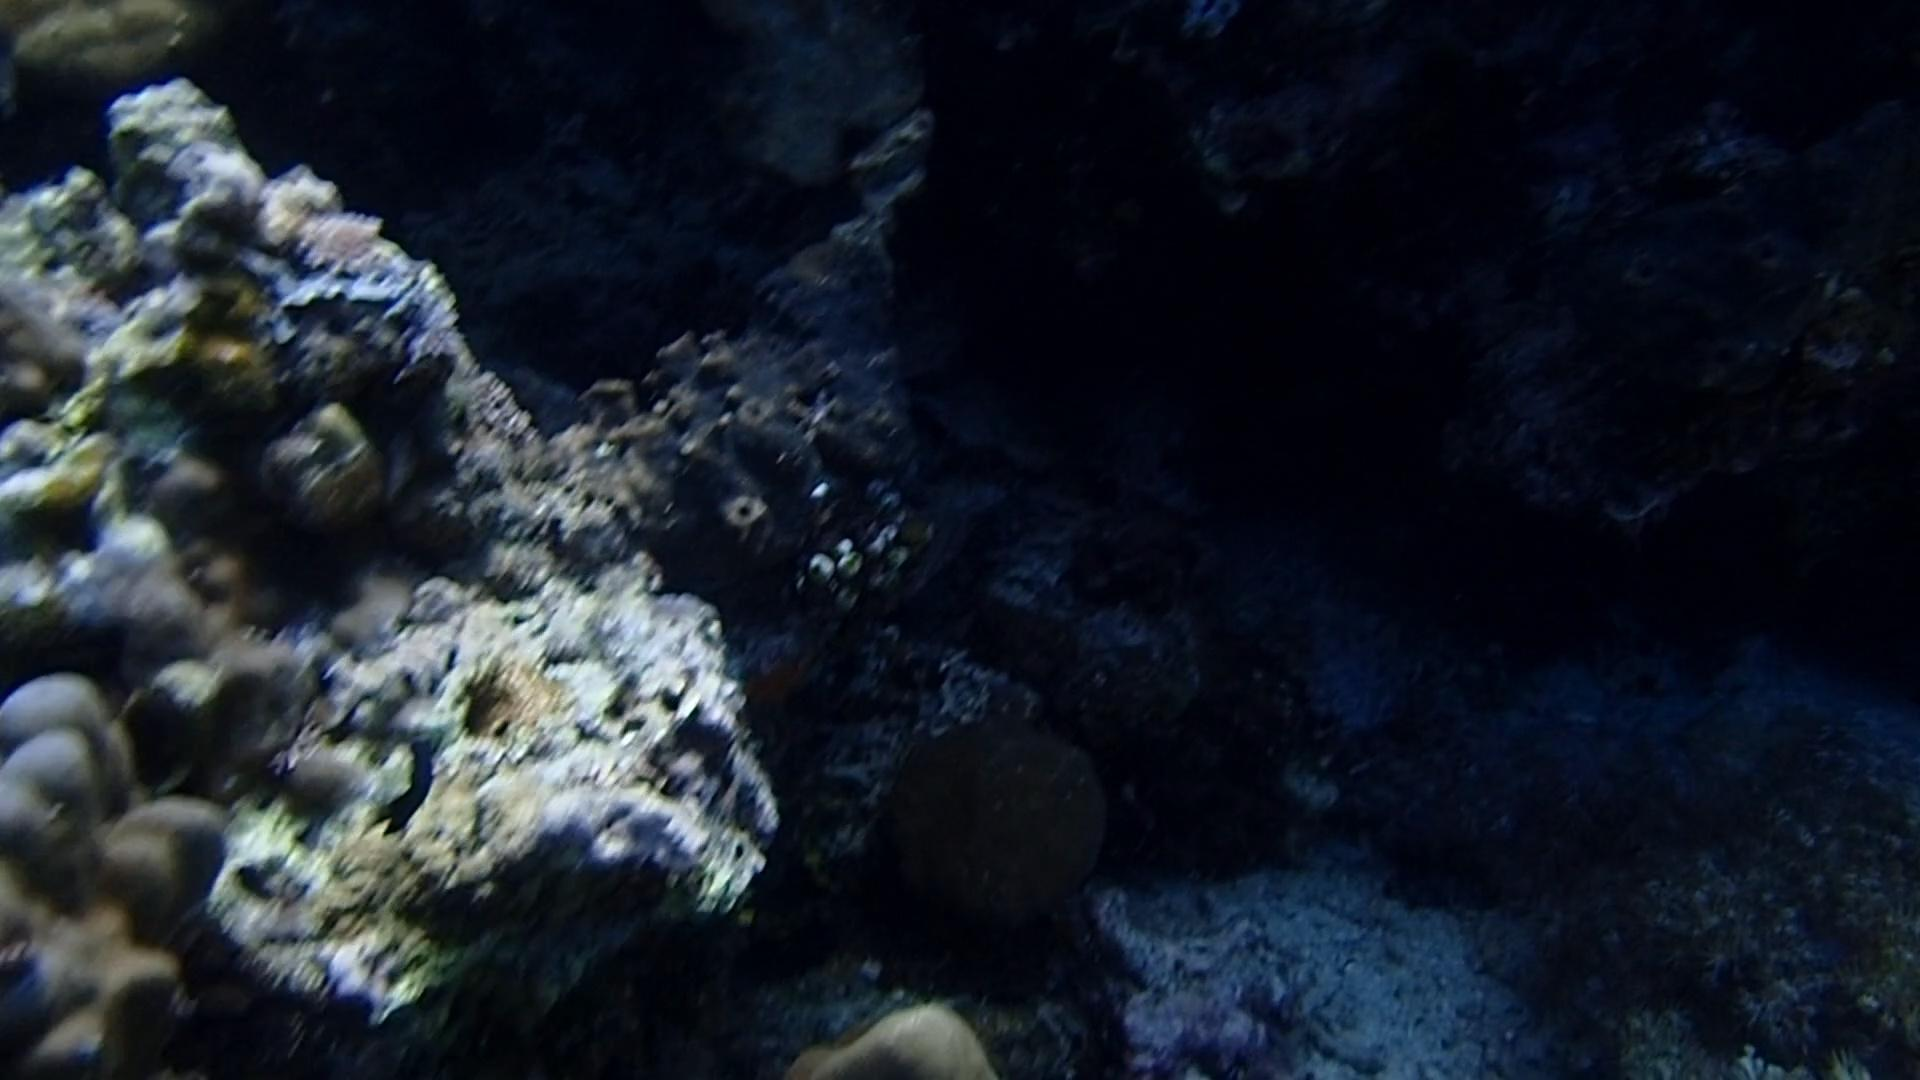Dark Fish: (371, 724, 446, 851)
